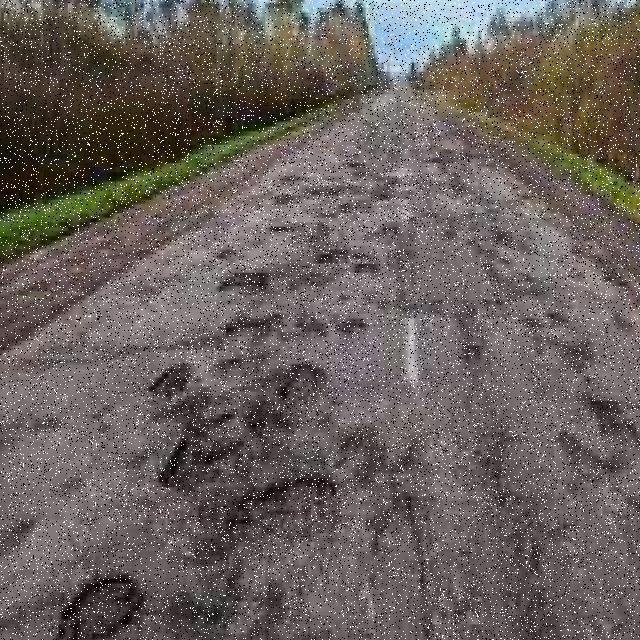pothole: (147, 364, 332, 615), (58, 574, 144, 640), (217, 268, 277, 350)
